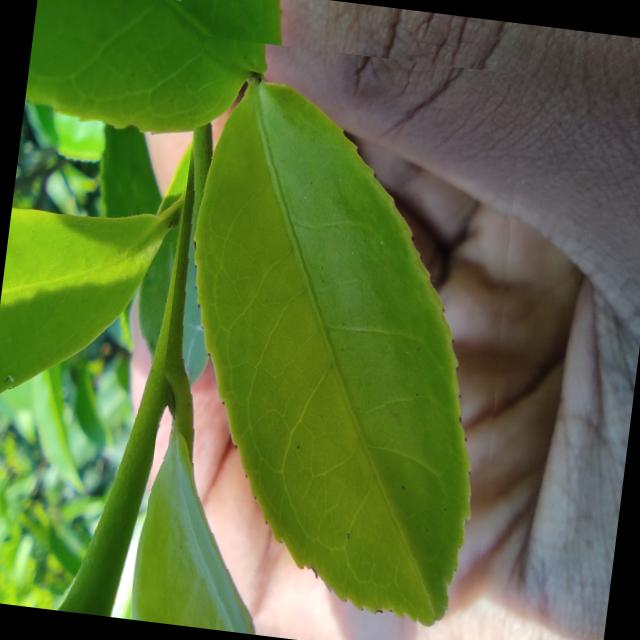Category C 4-7 days: (134, 35, 541, 640)
